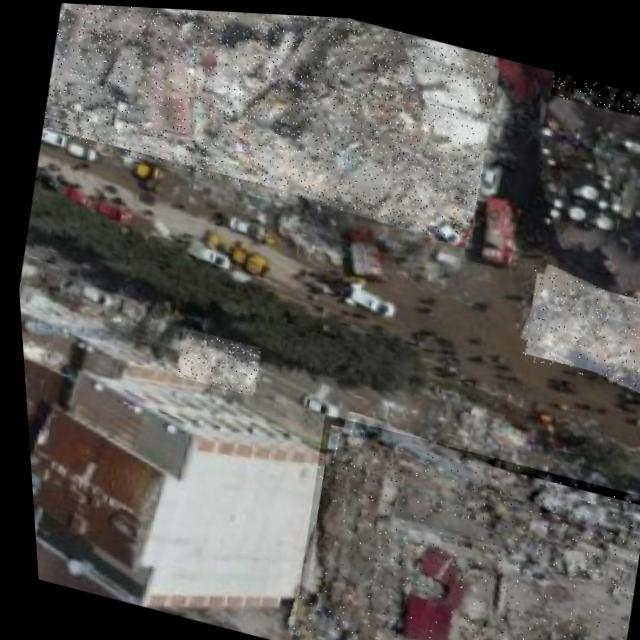Rubble: (33, 1, 509, 240), (269, 407, 640, 640), (509, 258, 640, 388), (168, 324, 259, 393), (547, 64, 640, 123)
